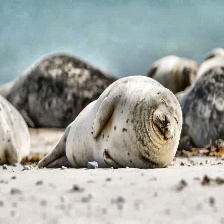seal: (37, 75, 185, 170), (178, 48, 224, 150), (146, 54, 199, 95)
